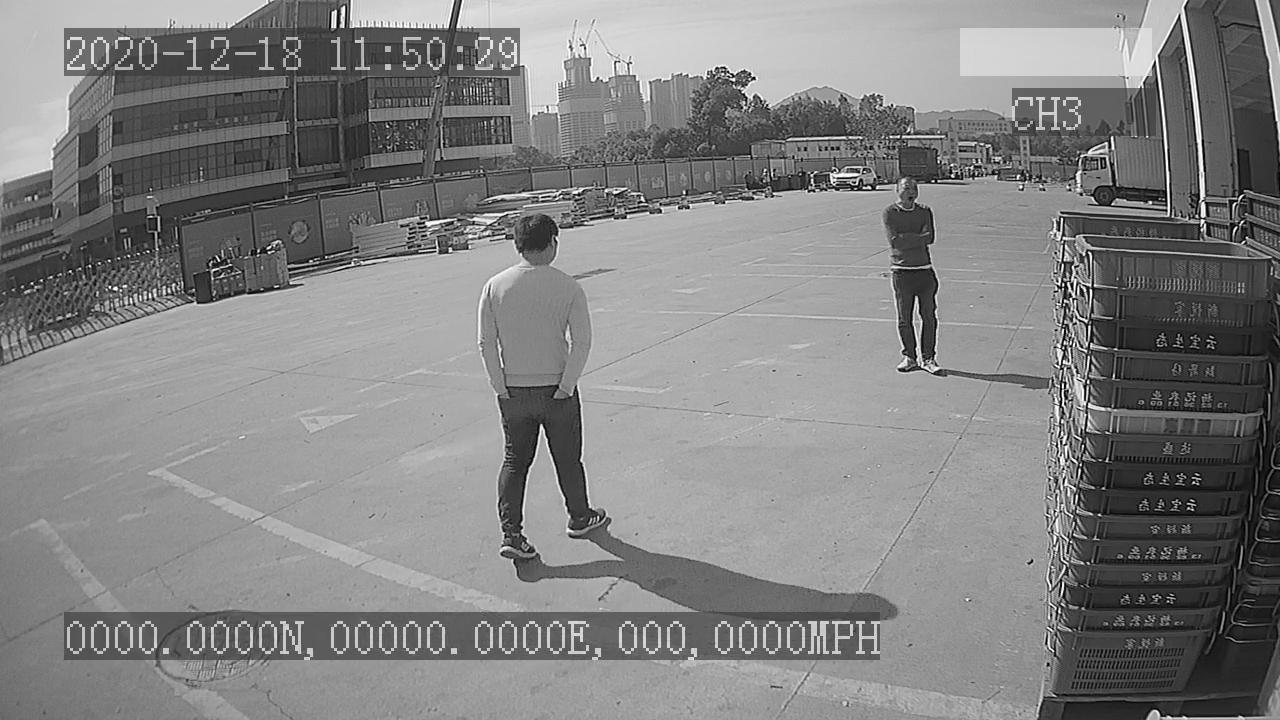person: (468, 210, 611, 565), (877, 172, 947, 378)
